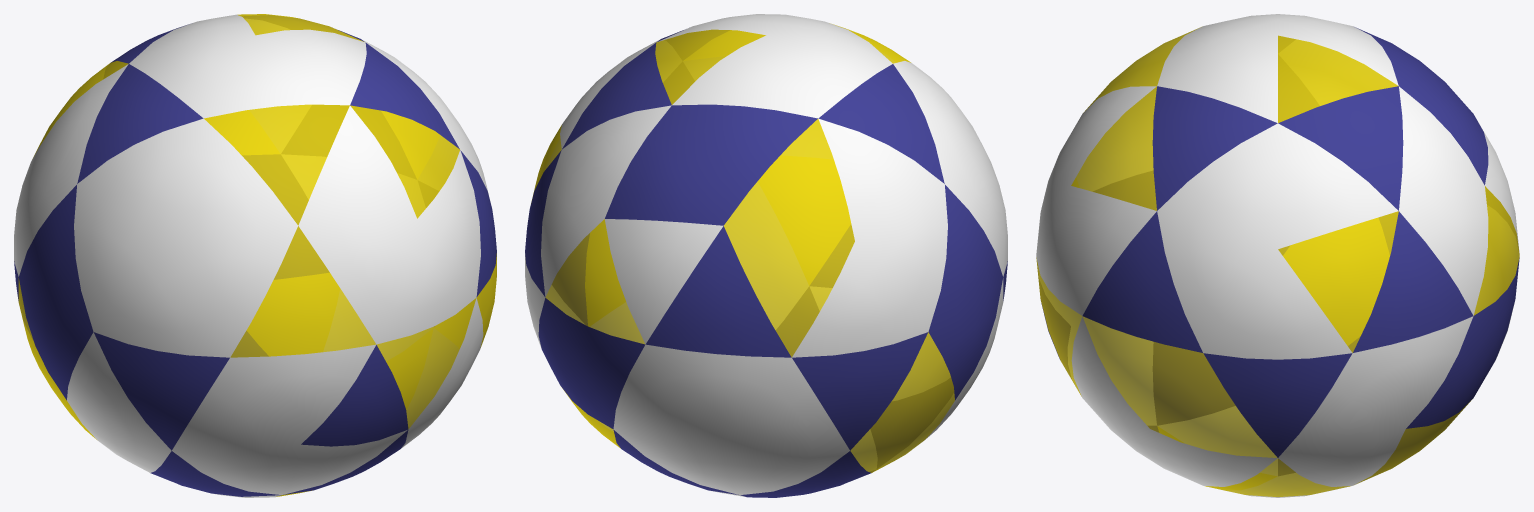
The picture shows the model from 3 angles, left to right: view 1: azimuth 30°, elevation 25°; view 2: azimuth 150°, elevation 25°; view 3: azimuth 270°, elevation 25°; orthographic projection.
Parts seen in each view (by area): view 1: SoccerBall_Stars; view 2: SoccerBall_Stars; view 3: SoccerBall_Stars.
Boxes of the visible parts, x1,y1,x2,y2 form: SoccerBall_Stars: [14, 14, 496, 497]; SoccerBall_Stars: [525, 14, 1007, 497]; SoccerBall_Stars: [1036, 14, 1519, 497].
Bounding box in the file's own units: 1.85 × 1.86 × 1.85.
